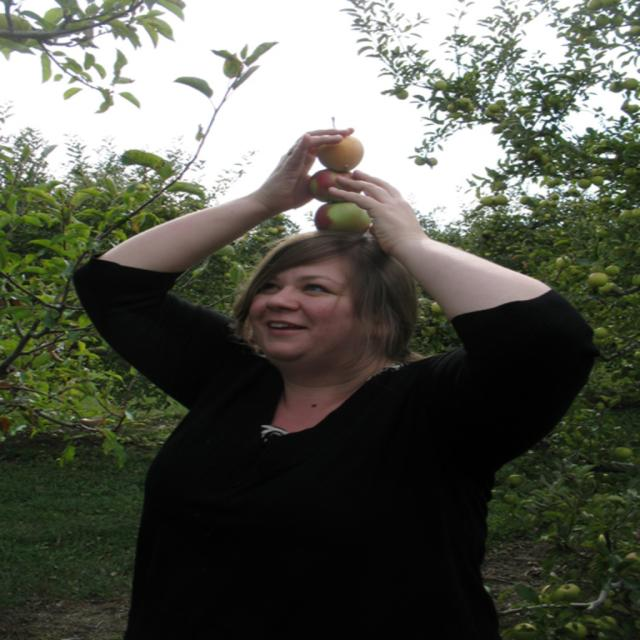Healty Apple: (394, 0, 639, 639), (215, 213, 288, 285), (307, 198, 384, 248), (305, 167, 361, 200), (317, 134, 363, 171)
